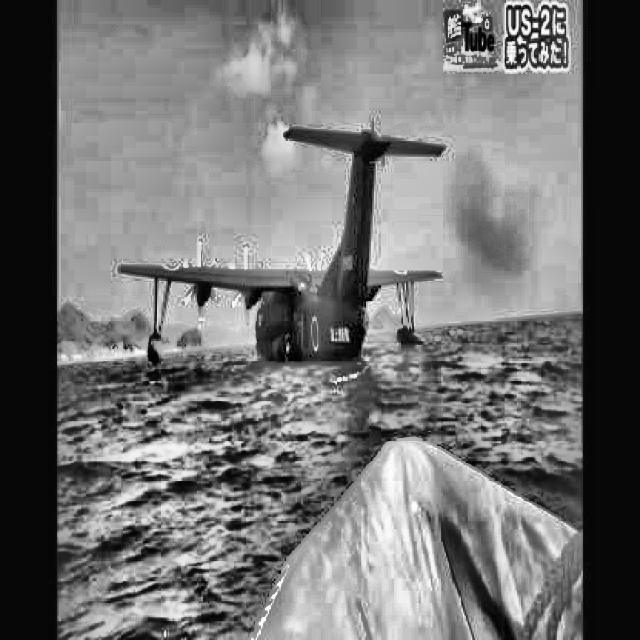US2: (119, 118, 446, 367)
